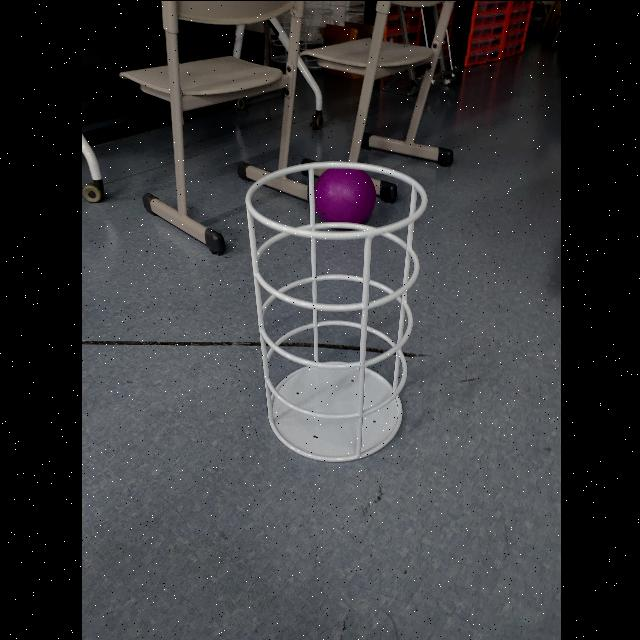S: (242, 157, 428, 466)
